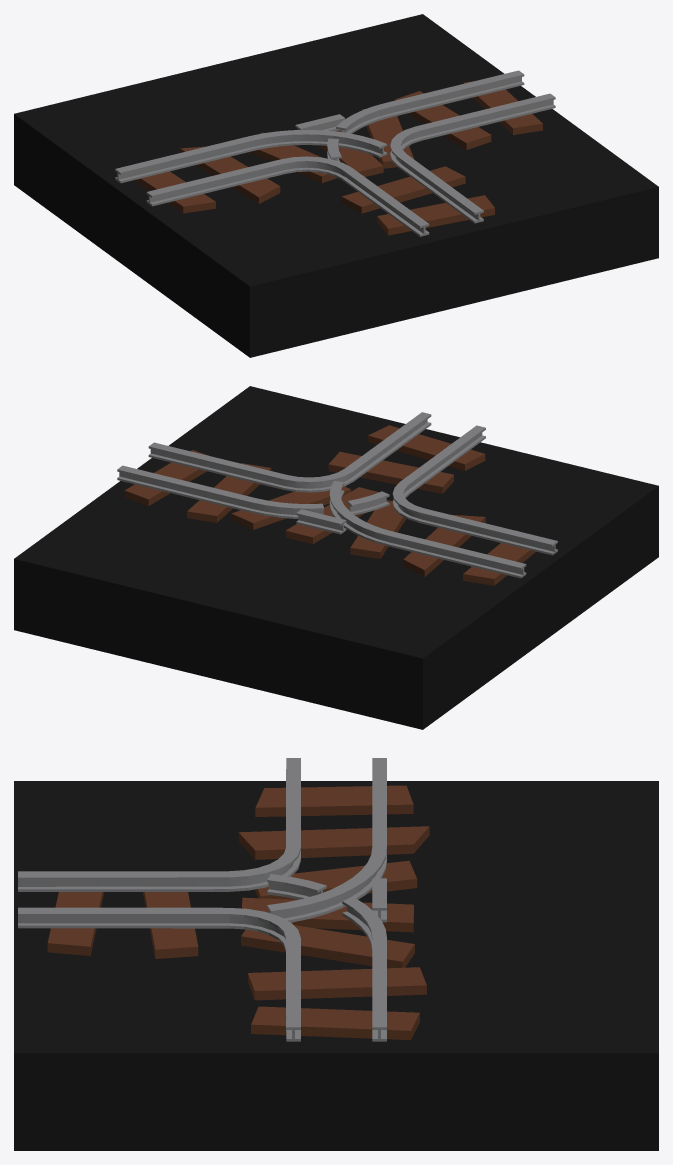
3 views of the same model, one above another, from view 1: azimuth 30°, elevation 25°; view 2: azimuth 150°, elevation 25°; view 3: azimuth 270°, elevation 25° (orthographic). The views are drawn at different scales.
Parts seen in each view (by area): view 1: 3_Node_1; view 2: 3_Node_1; view 3: 3_Node_1.
Part boxes in pixels (left/top/right/bottom): 3_Node_1: left=14, top=14, right=658, bottom=357; 3_Node_1: left=14, top=386, right=658, bottom=729; 3_Node_1: left=14, top=758, right=658, bottom=1150.
Bounding box in the file's own units: 118 × 24.48 × 118.
